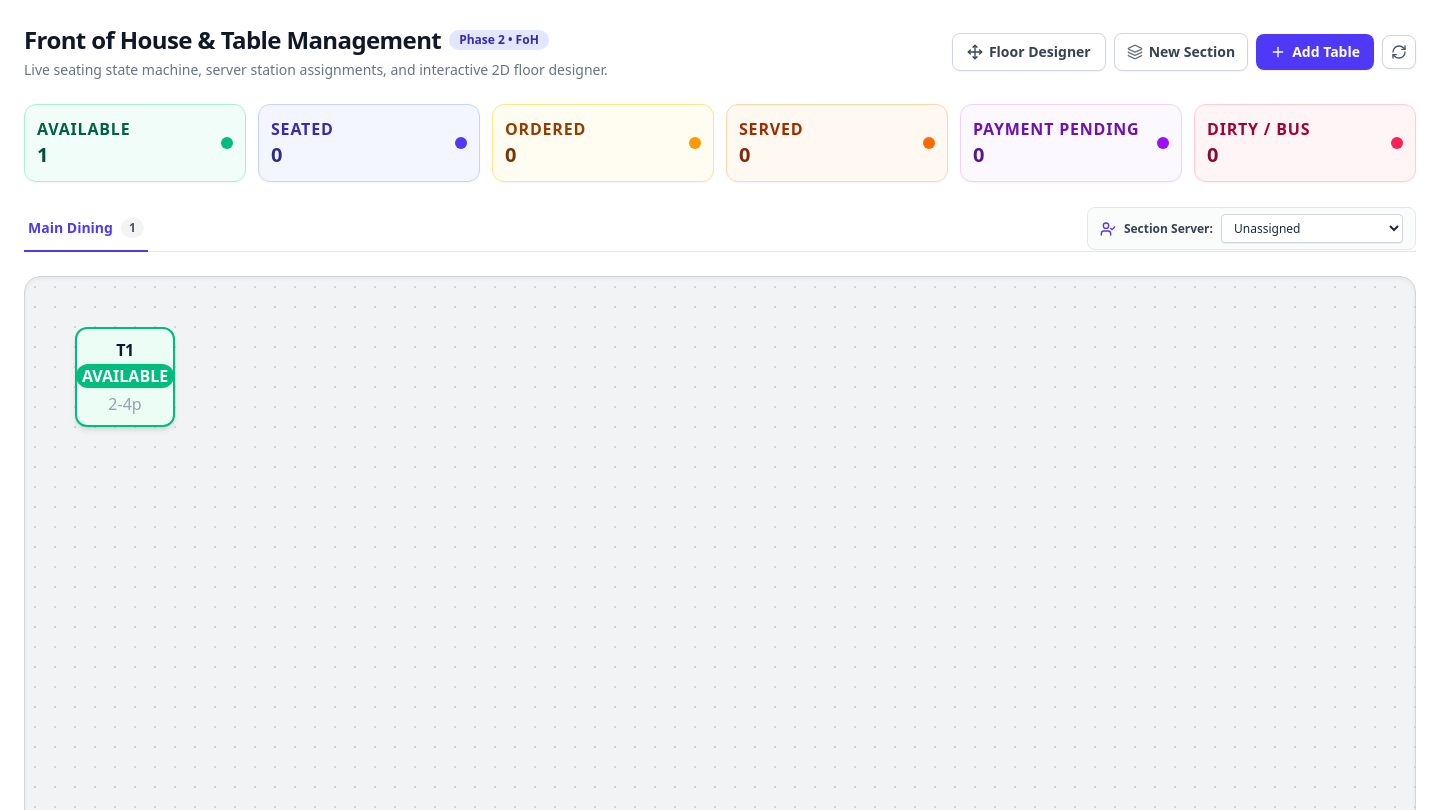
FloorPlanPage Component › allows selecting a table and displays dedicated server assignment control
This screenshot has width=1440, height=810.
// Click table T1
Step 1. Click the text "T1" → (125, 350), box 116,338 -> 134,362
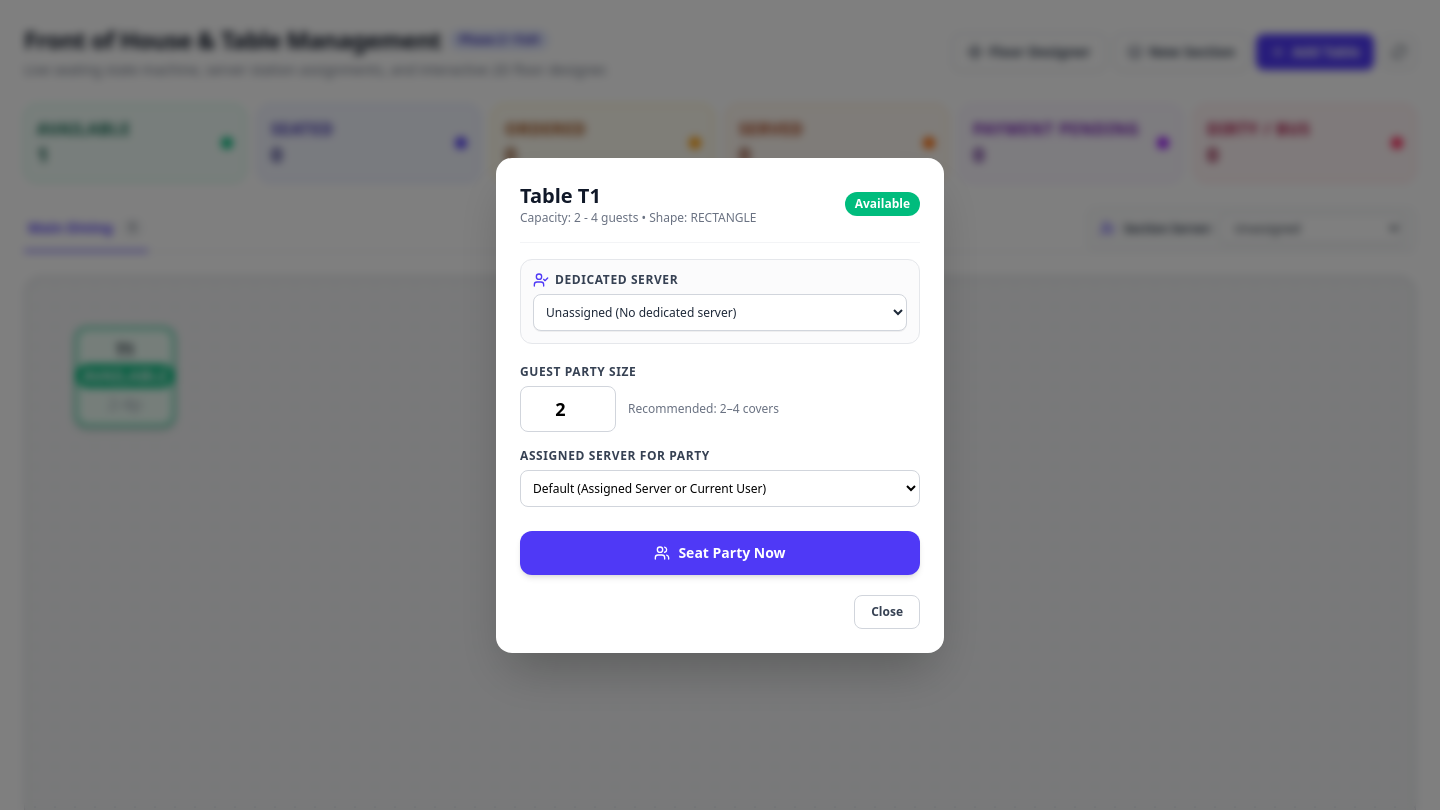
Check: the text "Dedicated Server" is shown, box 555,272 -> 678,288
Check: the text "Seat Party Now" is shown, box 678,542 -> 786,562
